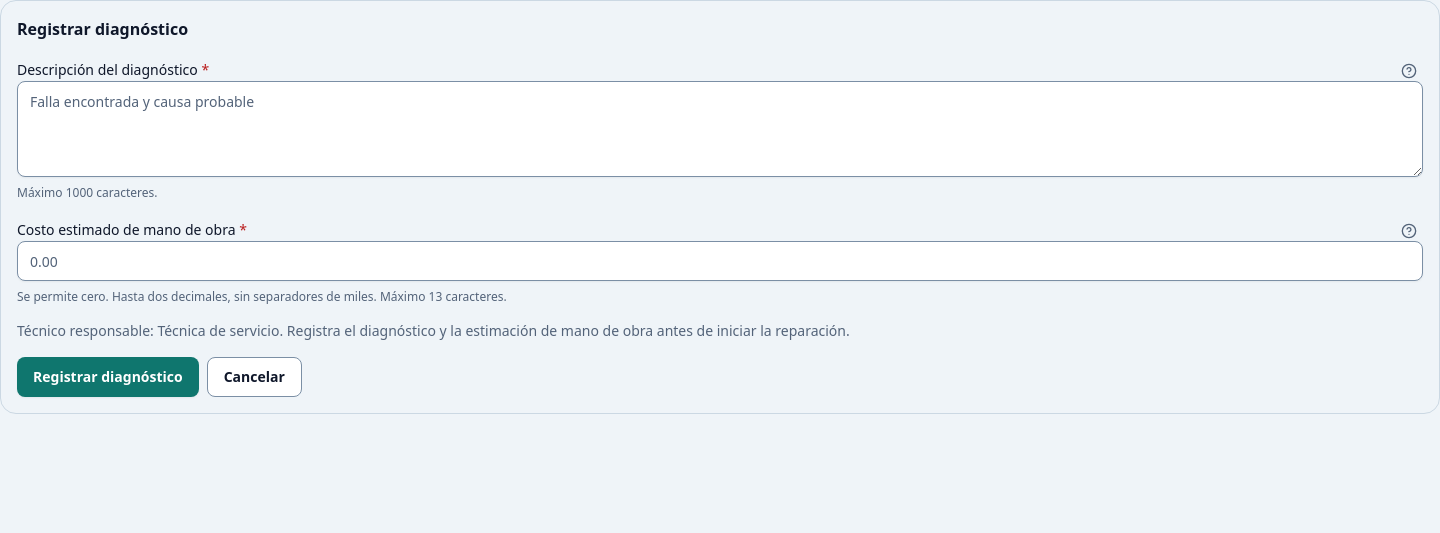
Test: diagnósticos conectados › bloquea un segundo diagnóstico activo y mantiene contenido ante conflicto sin retry
Type "Falla" into the text box labelled "Descripción del diagnóstico *".
click(720, 129); type("Falla")  # box [17,81,1423,177]
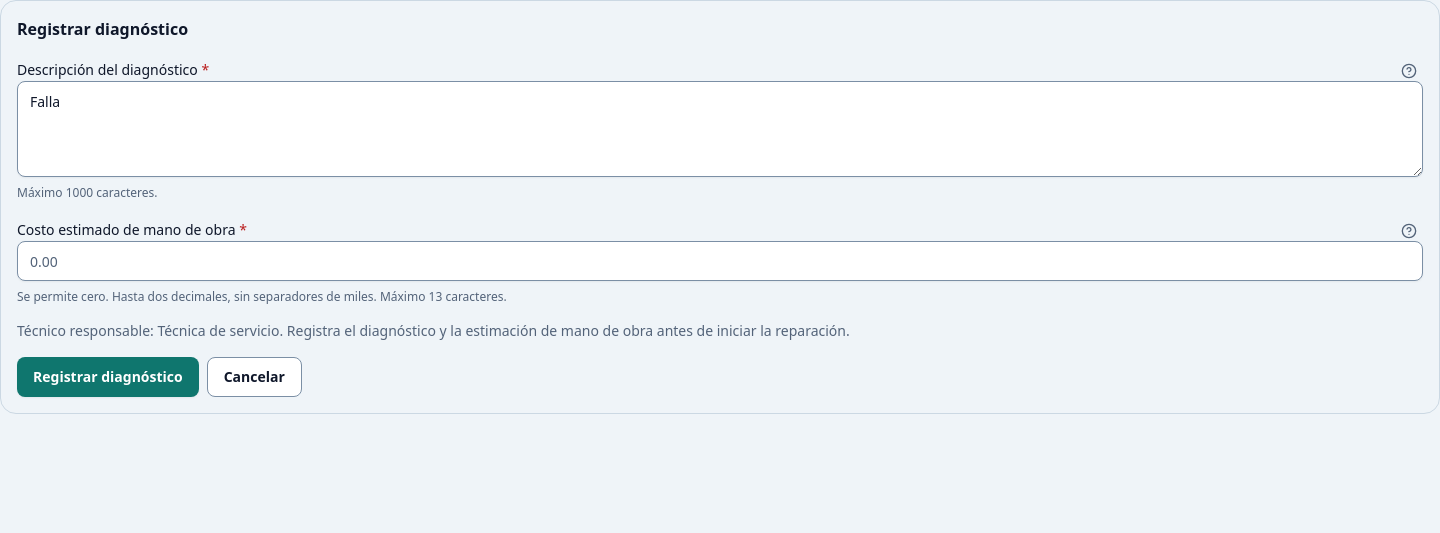
Type "25" into the field labelled "Costo estimado de mano de obra *".
click(720, 261); type("25")  # box [17,241,1423,281]
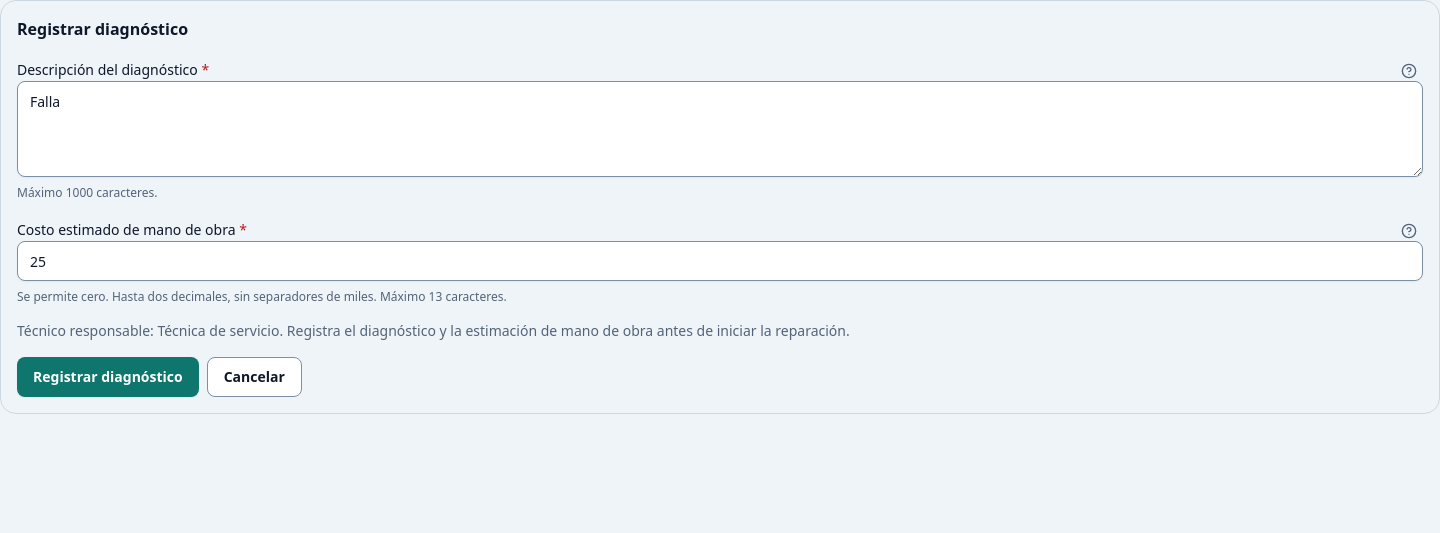
Submit the form "Registrar diagnóstico"
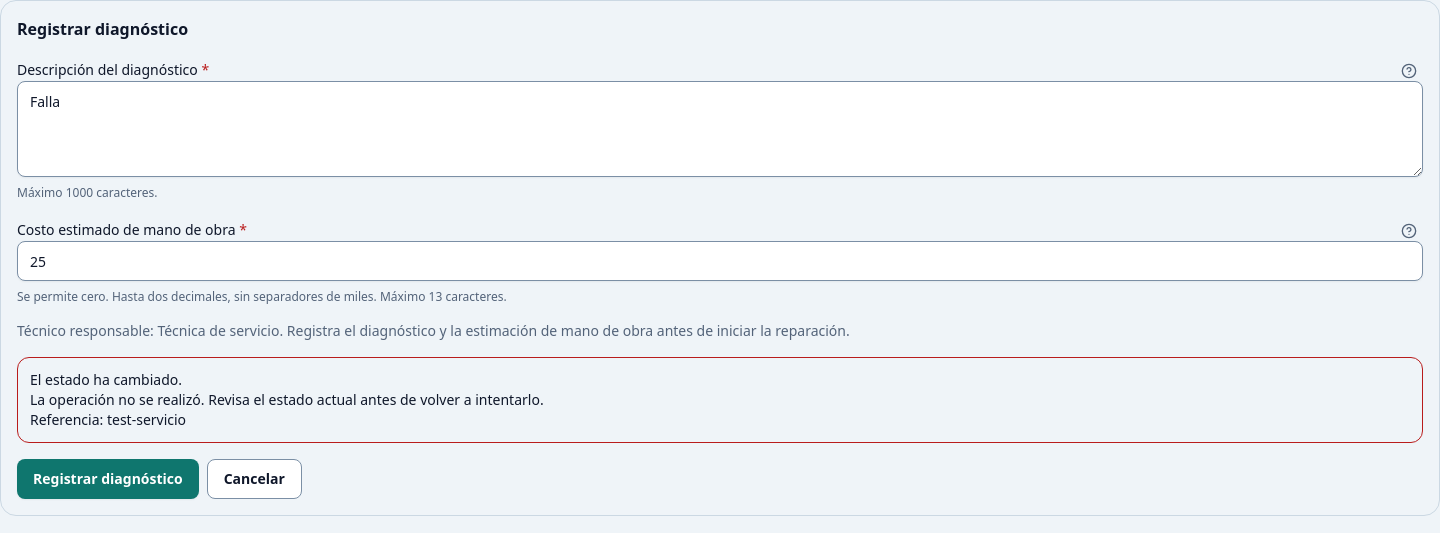
Result: the text "El estado ha cambiado." is shown at [30,370,182,389]
